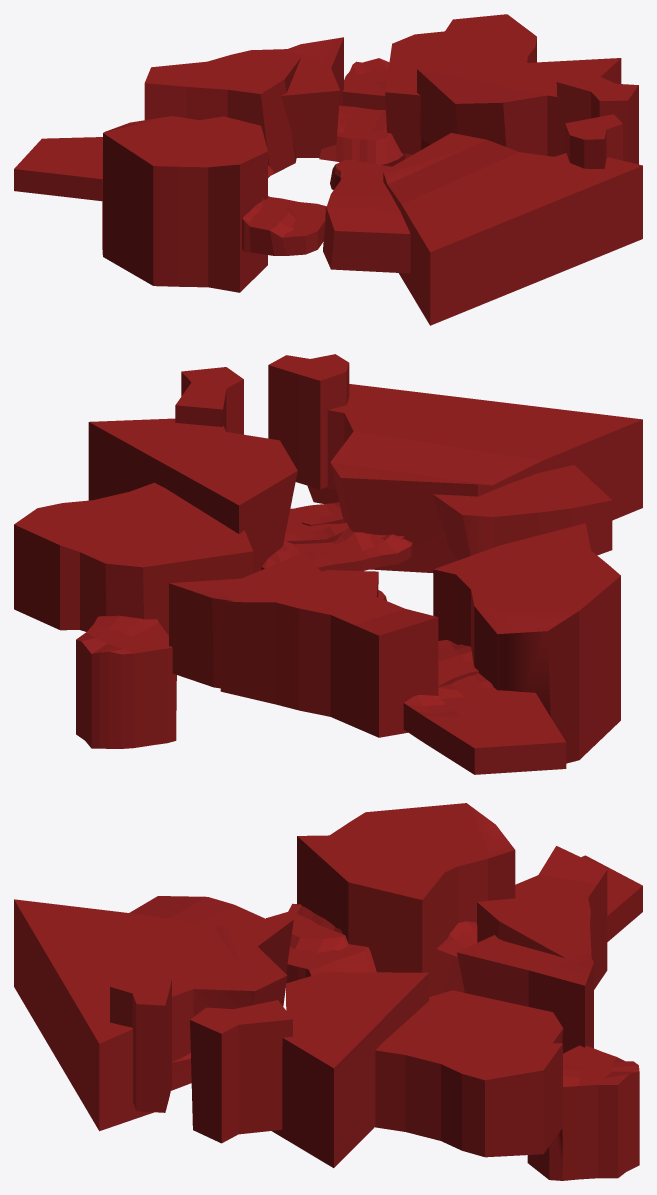
The model's file is Zone4Final.FBX.
3 views of the same model, one above another, from view 1: azimuth 30°, elevation 25°; view 2: azimuth 150°, elevation 25°; view 3: azimuth 270°, elevation 25° (orthographic). The views are drawn at different scales.
Visible parts, largest first — view 1: New_Game_Object__1__1, New_Game_Object__2_, New_Game_Object_5, New_Game_Object_3, New_Game_Object_2, New_Game_Object_16, New_Game_Object_14, New_Game_Object_15, New_Game_Object_1, New_Game_Object_13, New_Game_Object, New_Game_Object__4__1 (+1 smaller); view 2: New_Game_Object__1__1, New_Game_Object__2_, New_Game_Object_3, New_Game_Object_2, New_Game_Object_5, New_Game_Object__1_, New_Game_Object_15, New_Game_Object_16, New_Game_Object__4__1, New_Game_Object_14, New_Game_Object_4, New_Game_Object_13 (+2 smaller); view 3: New_Game_Object__1__1, New_Game_Object__2_, New_Game_Object_2, New_Game_Object_5, New_Game_Object_13, New_Game_Object__1_, New_Game_Object_3, New_Game_Object_14, New_Game_Object__4__1, New_Game_Object_16, New_Game_Object_1, New_Game_Object_15.
Part boxes in pixels (box(x1,y1,x2,y2)): New_Game_Object__1__1: box(383, 133, 642, 325); New_Game_Object__2_: box(102, 116, 267, 292); New_Game_Object_5: box(417, 58, 621, 156); New_Game_Object_3: box(144, 49, 301, 175); New_Game_Object_2: box(385, 14, 536, 154); New_Game_Object_16: box(323, 159, 410, 273); New_Game_Object_14: box(281, 37, 343, 157); New_Game_Object_15: box(14, 137, 273, 201); New_Game_Object_1: box(242, 196, 326, 255); New_Game_Object_13: box(556, 69, 638, 164); New_Game_Object: box(319, 105, 403, 164); New_Game_Object__4__1: box(565, 114, 622, 168); New_Game_Object__1__1: box(307, 384, 642, 572); New_Game_Object__2_: box(433, 523, 620, 763); New_Game_Object_3: box(220, 570, 438, 737); New_Game_Object_2: box(14, 482, 253, 635); New_Game_Object_5: box(88, 418, 297, 573); New_Game_Object__1_: box(76, 615, 176, 748); New_Game_Object_15: box(403, 639, 566, 774); New_Game_Object_16: box(432, 465, 612, 559); New_Game_Object__4__1: box(268, 354, 349, 489); New_Game_Object_14: box(169, 553, 320, 688); New_Game_Object_4: box(261, 502, 412, 571); New_Game_Object_13: box(175, 367, 243, 434); New_Game_Object__1__1: box(14, 899, 287, 1131); New_Game_Object__2_: box(297, 803, 515, 997); New_Game_Object_2: box(375, 990, 563, 1157); New_Game_Object_5: box(272, 972, 428, 1167); New_Game_Object_13: box(190, 1000, 292, 1143); New_Game_Object__1_: box(527, 1045, 639, 1180); New_Game_Object_3: box(477, 846, 607, 989); New_Game_Object_14: box(457, 935, 593, 1053); New_Game_Object__4__1: box(110, 974, 171, 1112); New_Game_Object_16: box(129, 896, 293, 973); New_Game_Object_1: box(266, 903, 376, 983); New_Game_Object_15: box(429, 855, 642, 992).
Bounding box in the file's own units: 52514 × 15981 × 47858.
